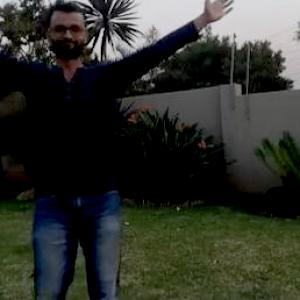takeoff: (1, 0, 221, 299)
